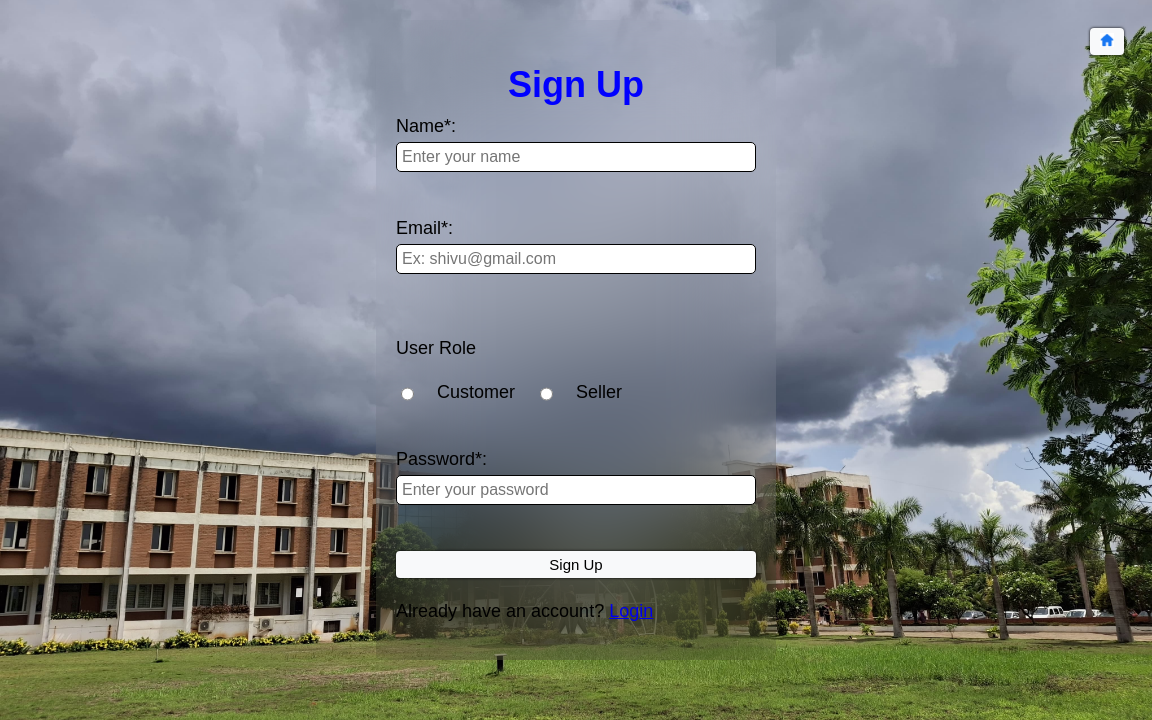
SignUp page › signup success
Type "Shivu" into the field with placeholder "Enter your name".
click(576, 157); type("Shivu")  # box top-left (396, 142), bottom-right (756, 172)
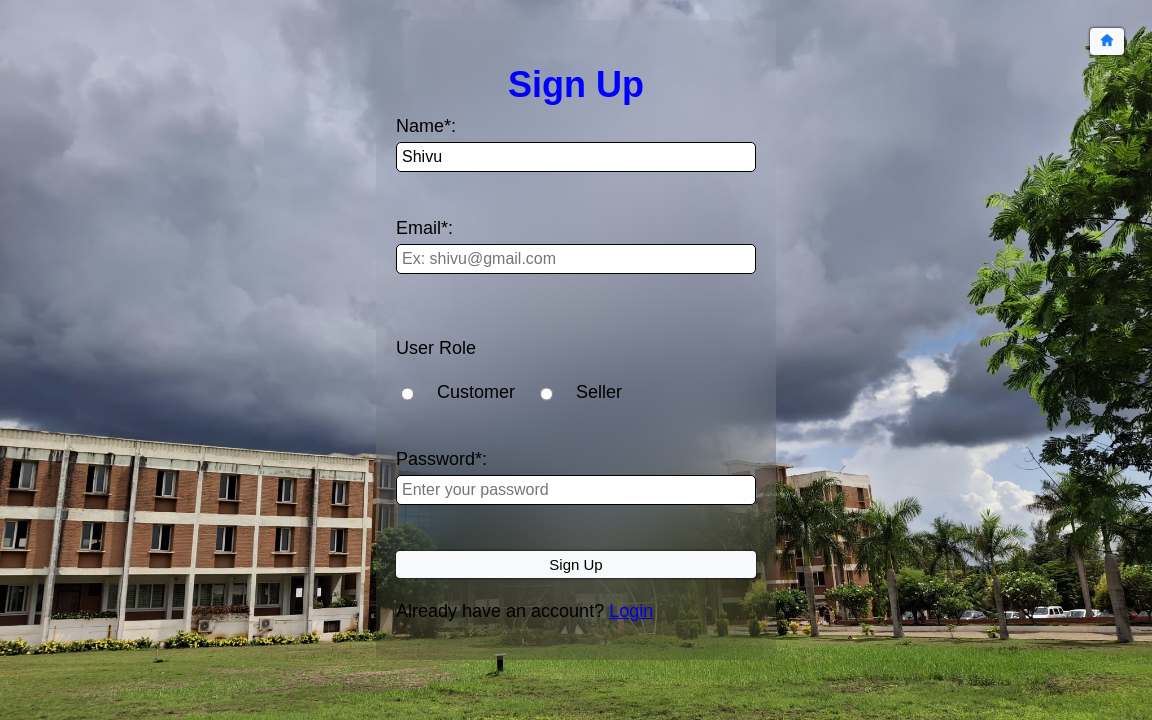
Type "shivu@gmail.com" into the field with placeholder "Ex: shivu@gmail.com".
click(576, 259); type("shivu@gmail.com")  # box top-left (396, 244), bottom-right (756, 274)
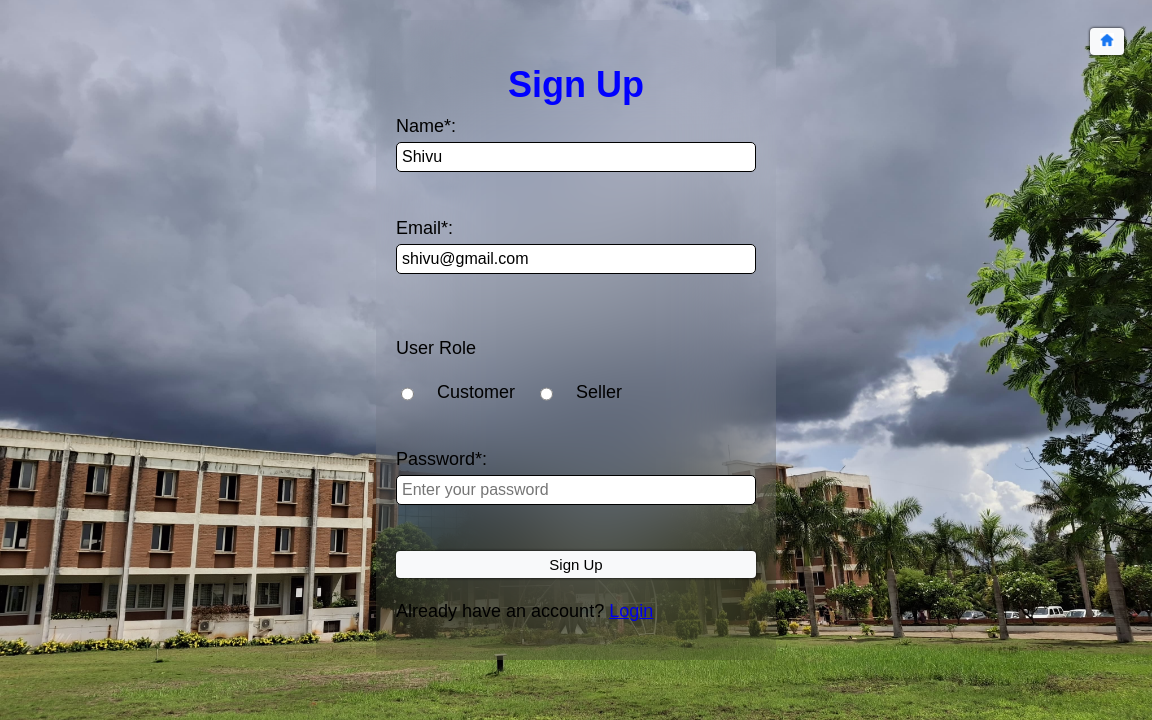
Type "password123" into the field with placeholder "Enter your password".
click(576, 490); type("password123")  # box top-left (396, 475), bottom-right (756, 505)
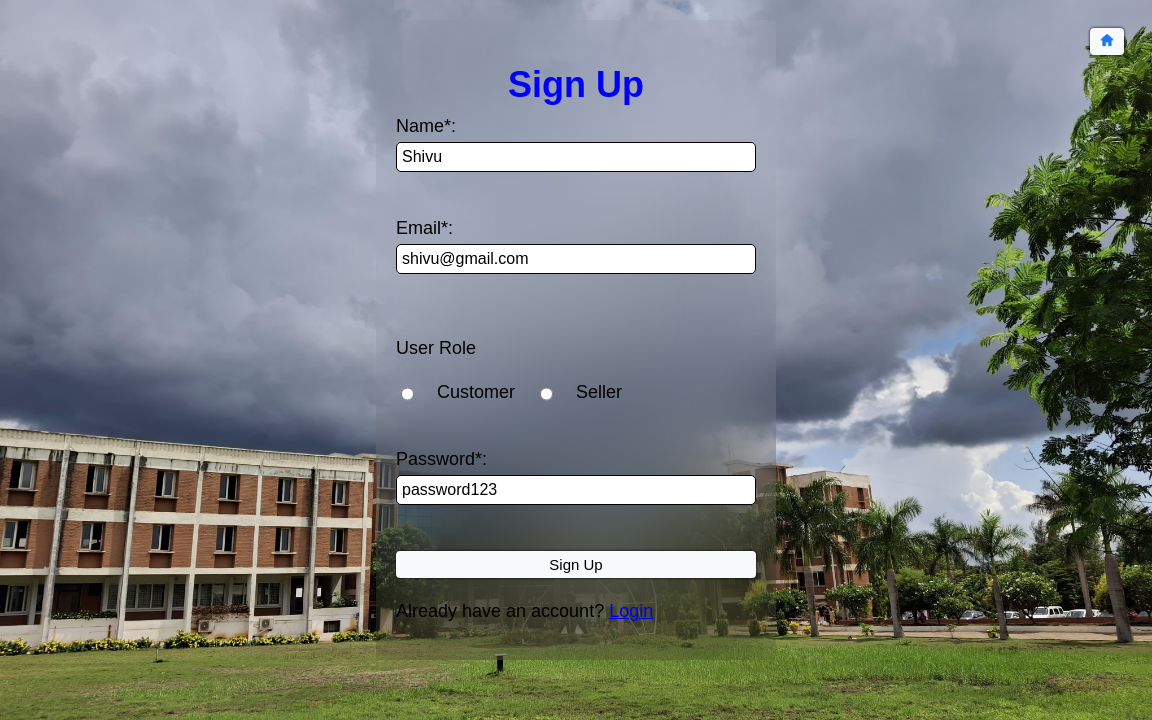
Click the radio button labelled "Customer".
click(408, 394)  # box top-left (401, 385), bottom-right (414, 403)
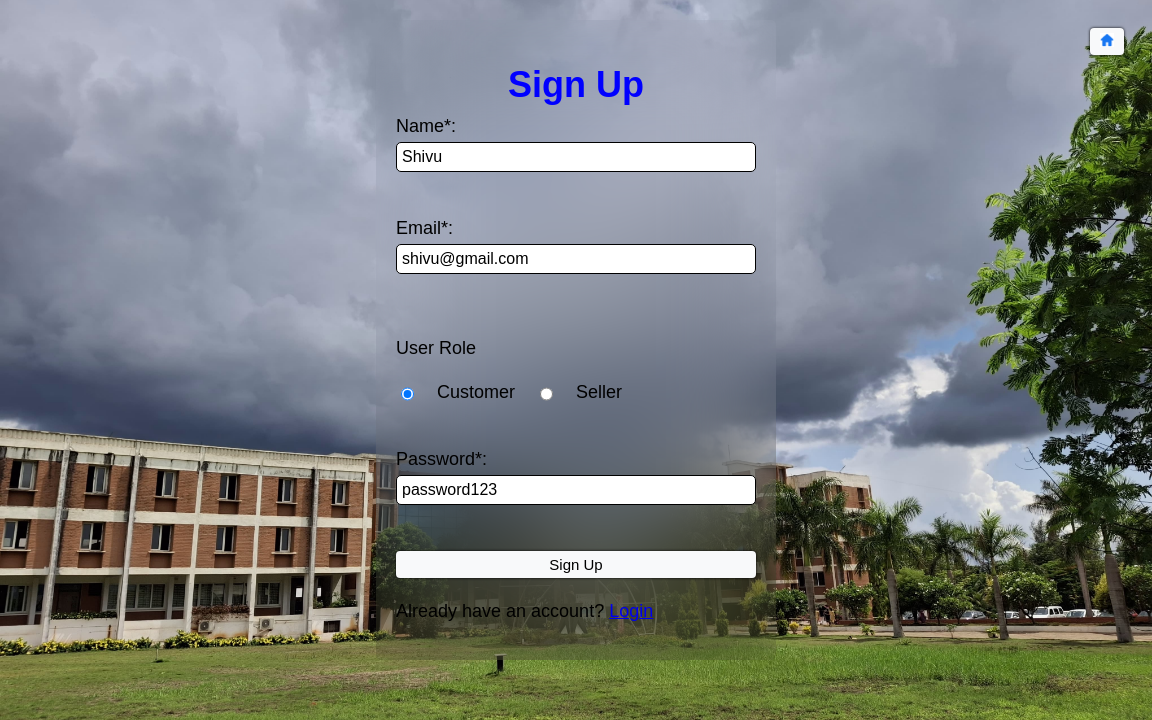
Click the button "Sign Up".
click(576, 565)  # box top-left (396, 551), bottom-right (756, 578)
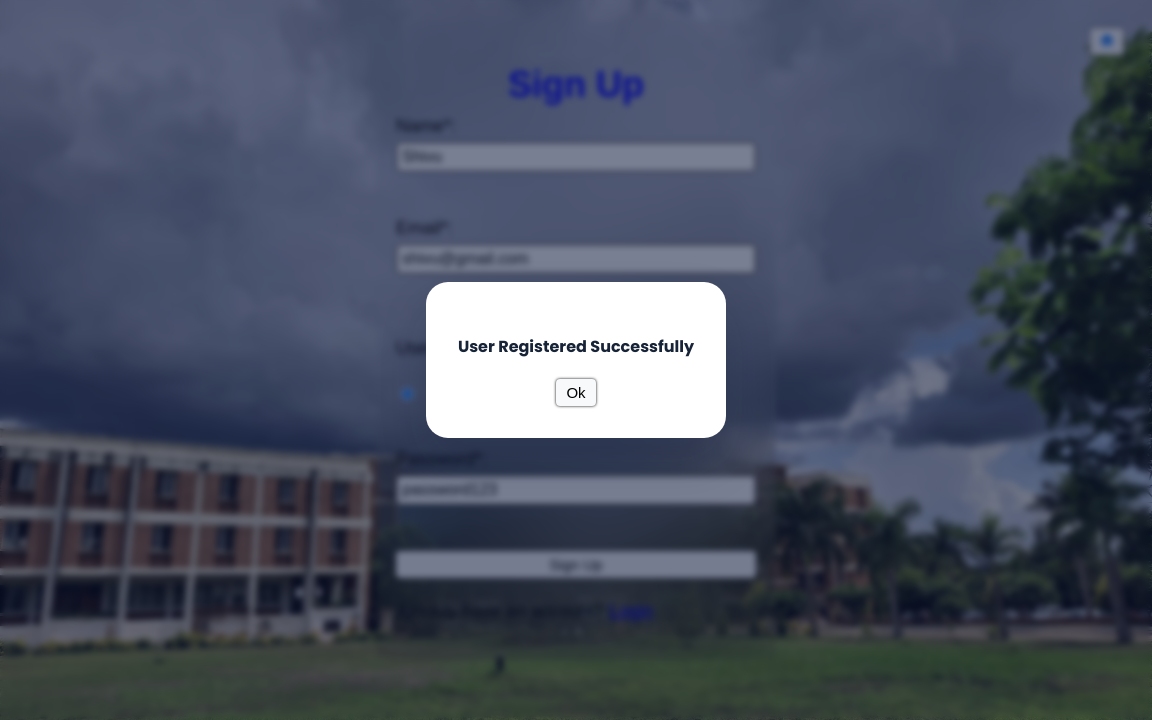
Expected: the heading "User Registered Successfully" is shown, top-left (458, 335), bottom-right (694, 359)
